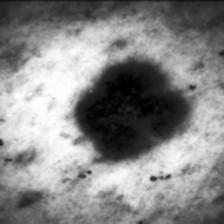Potentially Malignant Skin Tumors: (74, 68, 177, 156)
